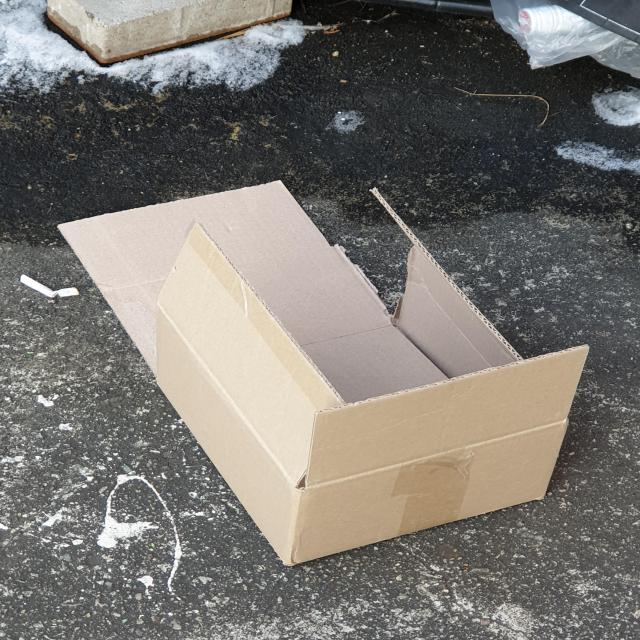hopgiay: (57, 181, 590, 568)
